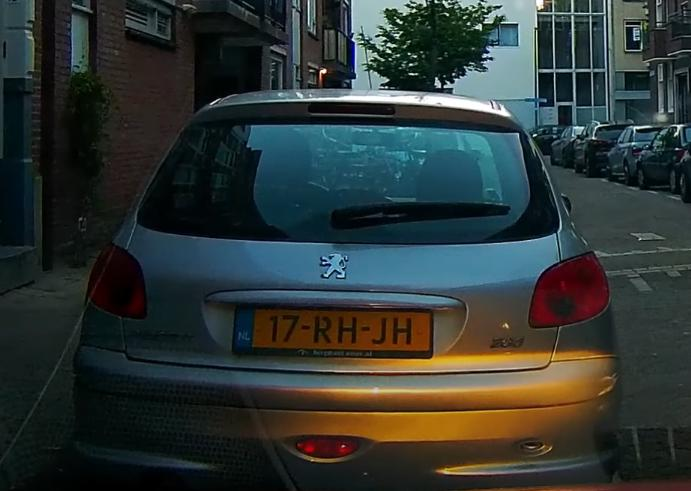license-plate: (229, 304, 434, 360)
